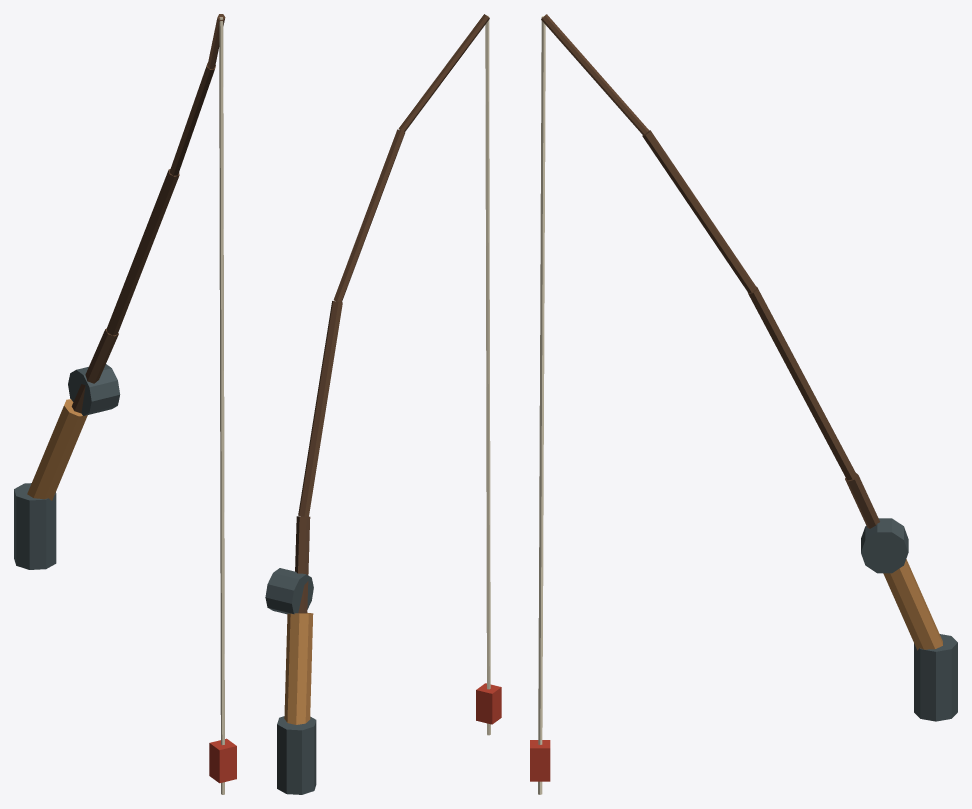
The model's file is fishing_deck__fishing_rod.glb.
The picture shows the model from 3 angles, left to right: view 1: azimuth 30°, elevation 25°; view 2: azimuth 150°, elevation 25°; view 3: azimuth 270°, elevation 25°; orthographic projection. The views are drawn at different scales.
Visible parts, largest first — view 1: fishing_rod__metal.001, fishing_rod__wood_dark.001, fishing_rod__cream.001, fishing_rod__wood2.001, fishing_rod__red.001; view 2: fishing_rod__wood_dark.001, fishing_rod__metal.001, fishing_rod__cream.001, fishing_rod__wood2.001, fishing_rod__red.001; view 3: fishing_rod__wood_dark.001, fishing_rod__metal.001, fishing_rod__cream.001, fishing_rod__wood2.001, fishing_rod__red.001.
Boxes of the visible parts, x1,y1,x2,y2 form: fishing_rod__metal.001: (14, 364, 120, 569); fishing_rod__wood_dark.001: (71, 14, 225, 413); fishing_rod__cream.001: (219, 17, 224, 794); fishing_rod__wood2.001: (27, 399, 87, 500); fishing_rod__red.001: (209, 738, 236, 783); fishing_rod__wood_dark.001: (295, 14, 489, 613); fishing_rod__metal.001: (265, 568, 316, 794); fishing_rod__cream.001: (485, 15, 490, 735); fishing_rod__wood2.001: (284, 612, 313, 724); fishing_rod__red.001: (476, 683, 501, 724); fishing_rod__wood_dark.001: (541, 14, 879, 528); fishing_rod__metal.001: (861, 518, 957, 721); fishing_rod__cream.001: (538, 16, 545, 794); fishing_rod__wood2.001: (883, 559, 942, 650); fishing_rod__red.001: (530, 740, 550, 781).
Size of the model in its own units: 0.2268 by 2.35 by 1.17.
